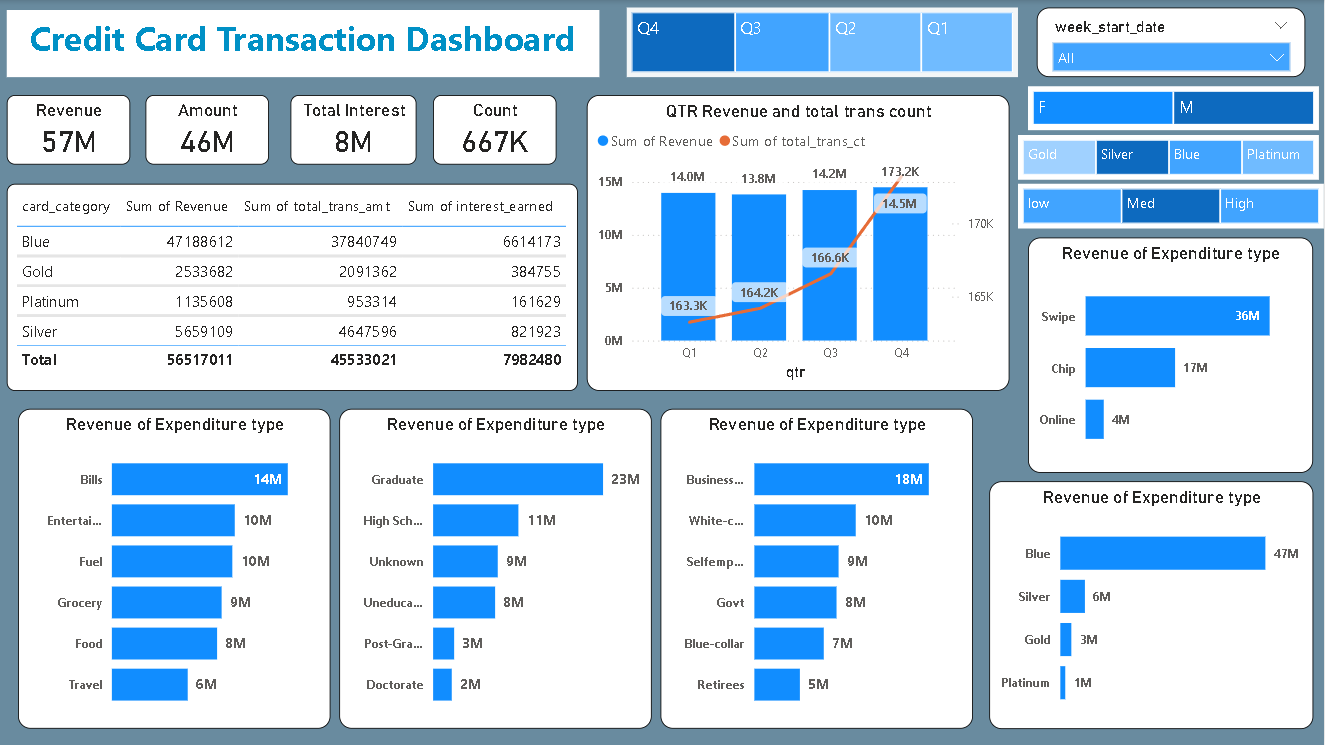

This screenshot's page, from the dashboard's own definition file:
{"tool":"powerbi","page":{"name":"cc Transaction","canvas":[1280,720],"ordinal":0},"visuals":[{"type":"textbox","box":[8.4,9.7,571.9,65.1],"z":0},{"type":"lineStackedColumnComboChart","title":"QTR Revenue and total trans count","fields":{"Category":["public cc_detail.qtr"],"Y":["Sum(public cc_detail.Revenue)"],"Y2":["Sum(public cc_detail.total_trans_ct)"]},"box":[568.2,91.7,407.8,285.9],"z":1000},{"type":"barChart","title":"Revenue of Expenditure type","fields":{"Y":["Sum(public cc_detail.Revenue)"],"Category":["public cc_detail.exp_type"]},"box":[19.3,394.5,301.6,308.8],"z":2000},{"type":"barChart","title":"Revenue of Expenditure type","fields":{"Y":["Sum(public cc_detail.Revenue)"],"Category":["public cust_detail.education_level"]},"box":[329.4,394.5,301.6,308.8],"z":3000},{"type":"barChart","title":"Revenue of Expenditure type","fields":{"Y":["Sum(public cc_detail.Revenue)"],"Category":["public cust_detail.customer_job"]},"box":[639.4,394.5,301.6,308.8],"z":4000},{"type":"barChart","title":"Revenue of Expenditure type","fields":{"Y":["Sum(public cc_detail.Revenue)"],"Category":["public cc_detail.card_category"]},"box":[956.7,464.5,312.5,238.9],"z":5000},{"type":"barChart","title":"Revenue of Expenditure type","fields":{"Y":["Sum(public cc_detail.Revenue)"],"Category":["public cc_detail.use_chip"]},"box":[994.1,229.2,275.1,226.8],"z":6000},{"type":"tableEx","fields":{"Values":["public cc_detail.card_category","Sum(public cc_detail.Revenue)","Sum(public cc_detail.total_trans_amt)","Sum(public cc_detail.interest_earned)"]},"box":[8.4,177.3,551.3,200.3],"z":7000},{"type":"card","title":"Revenue","fields":{"Values":["Sum(public cc_detail.Revenue)"]},"box":[8.4,91.7,119.4,67.6],"z":8000},{"type":"card","title":"Amount","fields":{"Values":["Sum(public cc_detail.total_trans_amt)"]},"box":[142.4,91.7,119.4,67.6],"z":9000},{"type":"card","title":"Total Interest","fields":{"Values":["Sum(public cc_detail.interest_earned)"]},"box":[282.3,91.7,121.9,67.6],"z":10000},{"type":"card","title":"Count","fields":{"Values":["Sum(public cc_detail.total_trans_ct)"]},"box":[419.8,91.7,119.4,67.6],"z":11000},{"type":"slicer","fields":{"Values":["public cc_detail.week_start_date"]},"box":[1002.6,7.2,259.4,67.6],"z":12000},{"type":"treemap","fields":{"Group":["public cc_detail.qtr"],"Values":["Avg(public cc_detail.client_num)"]},"box":[606.8,7.2,377.6,67.6],"z":13000},{"type":"treemap","fields":{"Values":["Avg(public cc_detail.client_num)"],"Details":["public cust_detail.gender"]},"box":[994.1,83.2,281.1,42.2],"z":14000},{"type":"treemap","fields":{"Values":["Avg(public cc_detail.client_num)"],"Group":["public cc_detail.card_category"]},"box":[984.5,130.3,290.8,43.4],"z":15000},{"type":"treemap","fields":{"Values":["Avg(public cc_detail.client_num)"],"Details":["public cust_detail.IncomeGroup"]},"box":[984.5,177.3,295.6,43.4],"z":16000}]}

Visuals, with their boxes in screenshot pixels (x1, y1, x2, y2), scaled from the page's 1280x720 canvas onto the 1325x745 screenshot:
textbox: <region>9, 10, 601, 77</region>
"QTR Revenue and total trans count" lineStackedColumnComboChart: <region>588, 95, 1010, 391</region>
"Revenue of Expenditure type" barChart: <region>20, 408, 332, 728</region>
"Revenue of Expenditure type" barChart: <region>341, 408, 653, 728</region>
"Revenue of Expenditure type" barChart: <region>662, 408, 974, 728</region>
"Revenue of Expenditure type" barChart: <region>990, 481, 1314, 728</region>
"Revenue of Expenditure type" barChart: <region>1029, 237, 1314, 472</region>
tableEx - public cc_detail.card_category x Sum(public cc_detail.Revenue): <region>9, 183, 579, 391</region>
"Revenue" card: <region>9, 95, 132, 165</region>
"Amount" card: <region>147, 95, 271, 165</region>
"Total Interest" card: <region>292, 95, 418, 165</region>
"Count" card: <region>435, 95, 558, 165</region>
slicer - public cc_detail.week_start_date: <region>1038, 7, 1306, 77</region>
treemap - public cc_detail.qtr x Avg(public cc_detail.client_num): <region>628, 7, 1019, 77</region>
treemap - Avg(public cc_detail.client_num) x public cust_detail.gender: <region>1029, 86, 1320, 130</region>
treemap - Avg(public cc_detail.client_num) x public cc_detail.card_category: <region>1019, 135, 1320, 180</region>
treemap - Avg(public cc_detail.client_num) x public cust_detail.IncomeGroup: <region>1019, 183, 1324, 228</region>
